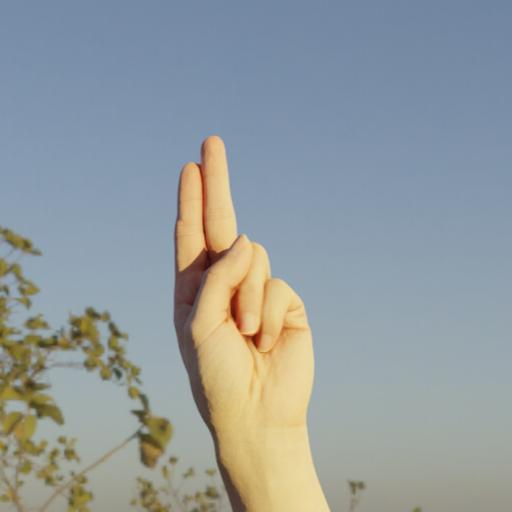U: (147, 125, 348, 481)
